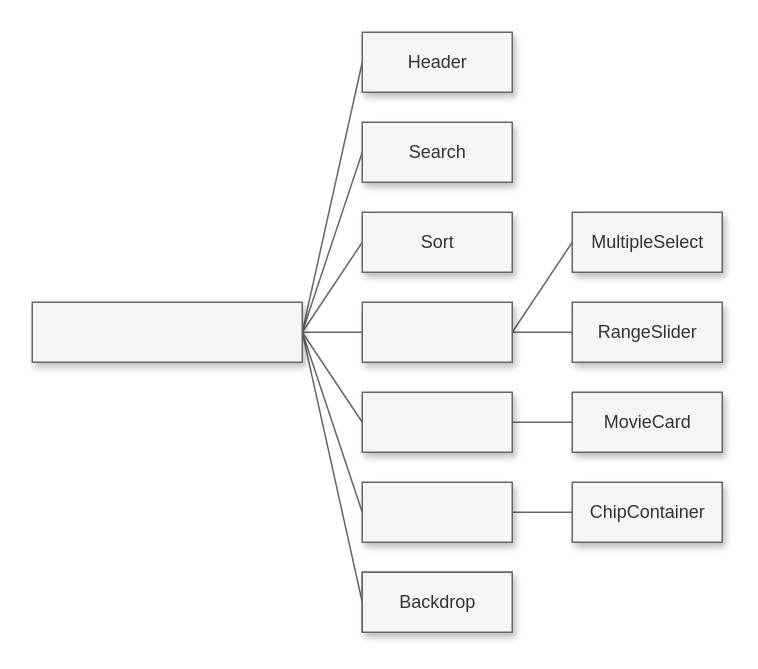
Some shapes in this 758 by 669 pixel diagram are drawn without their labels. The shapes that lost their labels are listed below. From the top down, each one's centre as x and y in pixels, then its label:
At point 168,334: "App w/ ApolloProvider & ThemeProvider".
At point 438,334: "Filter".
At point 438,424: "MovieContainer".
At point 438,514: "MoviePopup".
